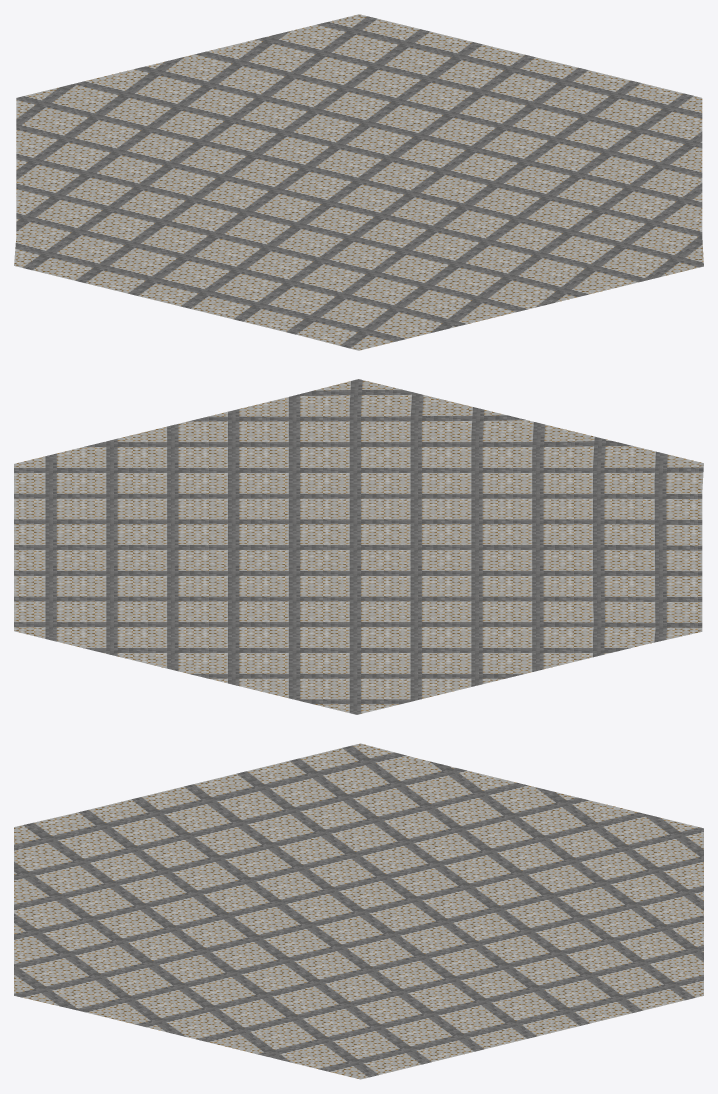
The model's file is CocinaFloor.fbx.
3 views of the same model, one above another, from view 1: azimuth 30°, elevation 25°; view 2: azimuth 150°, elevation 25°; view 3: azimuth 270°, elevation 25° (orthographic).
Parts seen in each view (by area): view 1: Outer_Walls.015; view 2: Outer_Walls.015; view 3: Outer_Walls.015.
Part boxes in pixels (x1=…): Outer_Walls.015: x1=14, y1=14, x2=703, y2=350; Outer_Walls.015: x1=14, y1=379, x2=703, y2=714; Outer_Walls.015: x1=14, y1=743, x2=703, y2=1079.
Size of the model in its own units: 48.16 by 0 by 41.77.
Materials: 1 (1 with a texture image).
